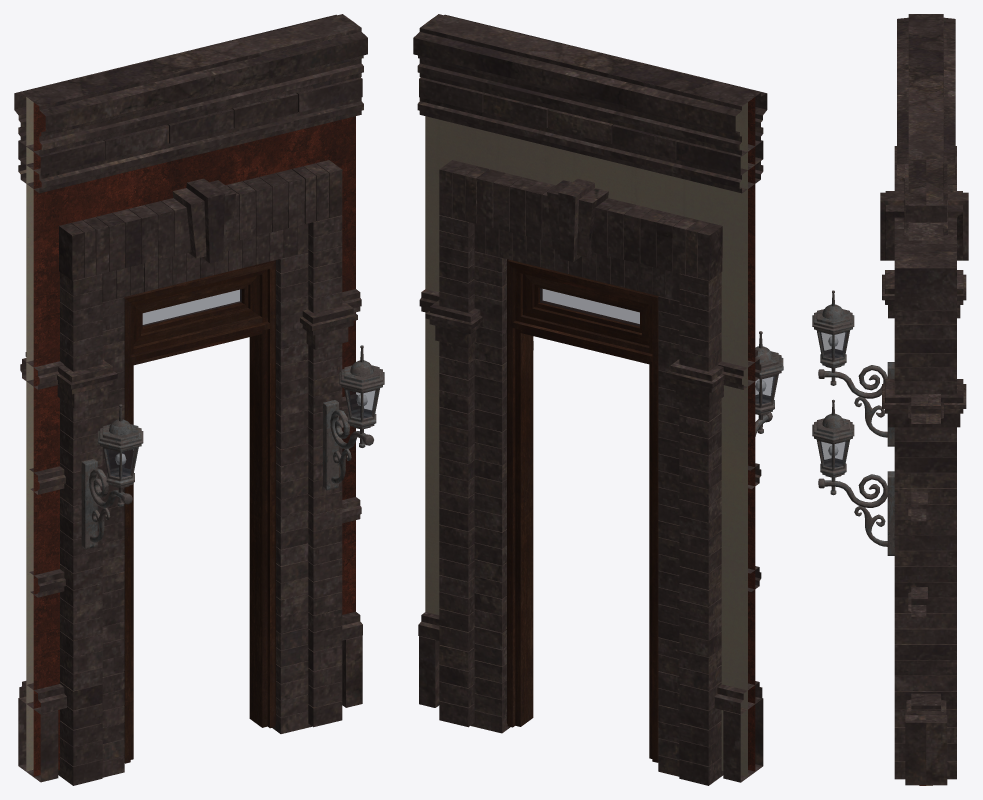
Rendered from SK2 DOOR 1.fbx.
3 renders of one model, left to right at view 1: azimuth 30°, elevation 25°; view 2: azimuth 150°, elevation 25°; view 3: azimuth 270°, elevation 25°, orthographic. The views are drawn at different scales.
Visible parts, largest first — view 1: SK2 DOOR 1.002; view 2: SK2 DOOR 1.002; view 3: SK2 DOOR 1.002.
Boxes of the visible parts, x1,y1,x2,y2 form: SK2 DOOR 1.002: (14, 14, 384, 785); SK2 DOOR 1.002: (413, 14, 783, 785); SK2 DOOR 1.002: (812, 14, 968, 785).
Size of the model in its own units: 200 by 406 by 90.48.
